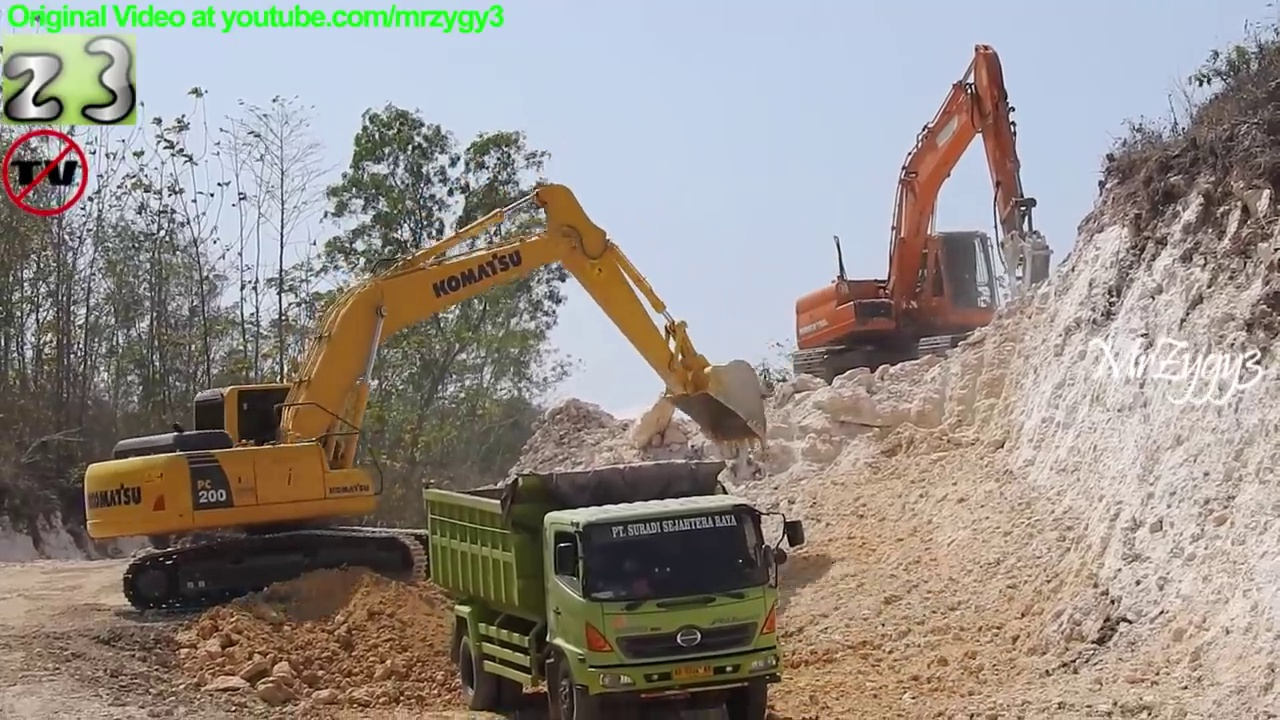excavator: (79, 179, 778, 623), (793, 41, 1062, 381)
truck: (420, 454, 810, 720)
